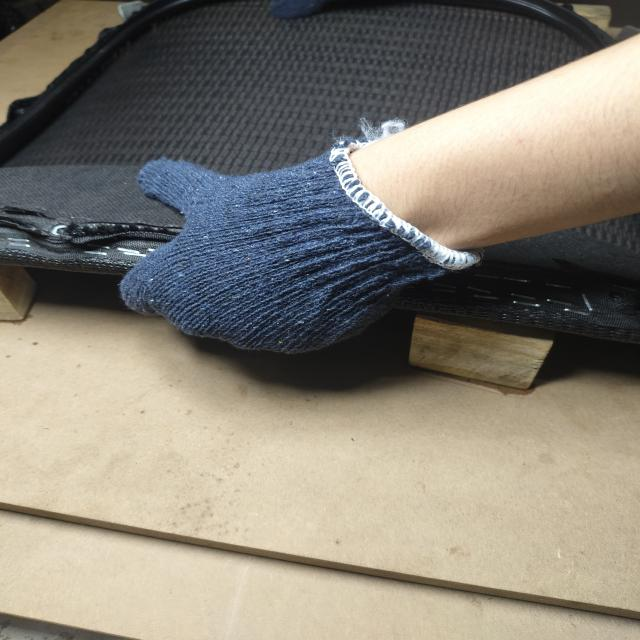Gloves-Detection: (144, 152, 435, 368)
